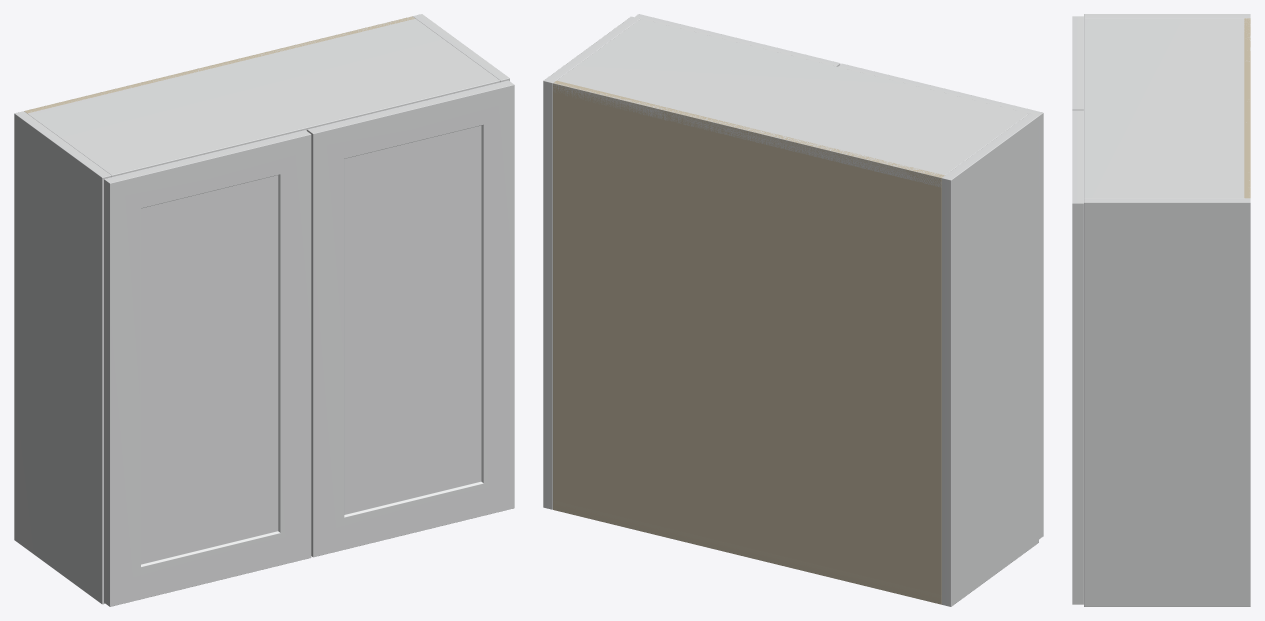
The model's file is PLY-WSS-W3030.glb.
3 views of the same model, side by side, from view 1: azimuth 30°, elevation 25°; view 2: azimuth 150°, elevation 25°; view 3: azimuth 270°, elevation 25° (orthographic). The views are drawn at different scales.
Parts seen in each view (by area): view 1: Shaker door, Shaker door.001, Carcass left, Carcass top, Carcass back, Carcass right; view 2: Carcass back, Carcass left, Carcass top, Carcass right, Carcass bottom, Shaker door, Shaker door.001; view 3: Carcass right, Carcass top, Shaker door.001, Carcass back, Shaker door, Carcass left.
Part boxes in pixels (<box>): Shaker door: <box>104,130,311,606</box>; Shaker door.001: <box>307,80,514,557</box>; Carcass left: <box>14,111,111,604</box>; Carcass top: <box>27,17,500,176</box>; Carcass back: <box>24,16,415,113</box>; Carcass right: <box>413,14,509,82</box>; Carcass back: <box>553,80,944,604</box>; Carcass left: <box>941,113,1038,606</box>; Carcass top: <box>553,19,1028,187</box>; Carcass right: <box>543,16,640,509</box>; Carcass bottom: <box>553,500,941,604</box>; Shaker door: <box>838,63,1043,539</box>; Shaker door.001: <box>635,14,840,66</box>; Carcass right: <box>1084,198,1250,606</box>; Carcass top: <box>1084,18,1250,198</box>; Shaker door.001: <box>1072,110,1083,604</box>; Carcass back: <box>1244,18,1250,198</box>; Shaker door: <box>1072,16,1083,110</box>; Carcass left: <box>1084,14,1250,18</box>.
Bounding box in the file's own units: 0.762 × 0.762 × 0.3048.
